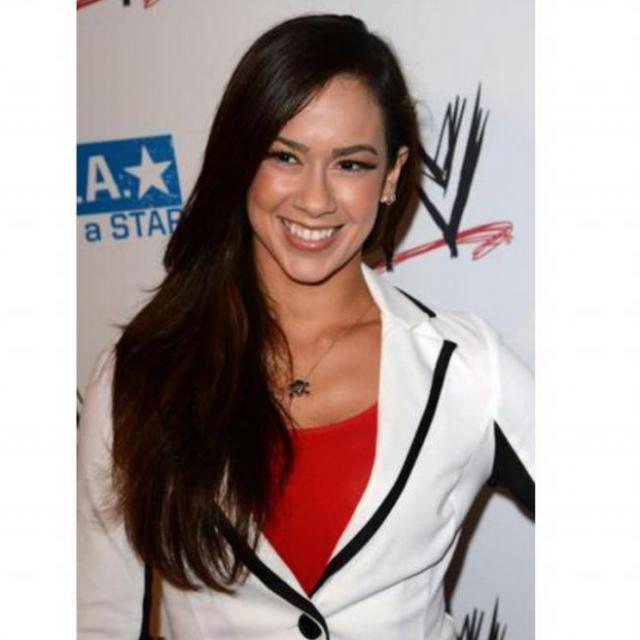live: (216, 5, 421, 304)
